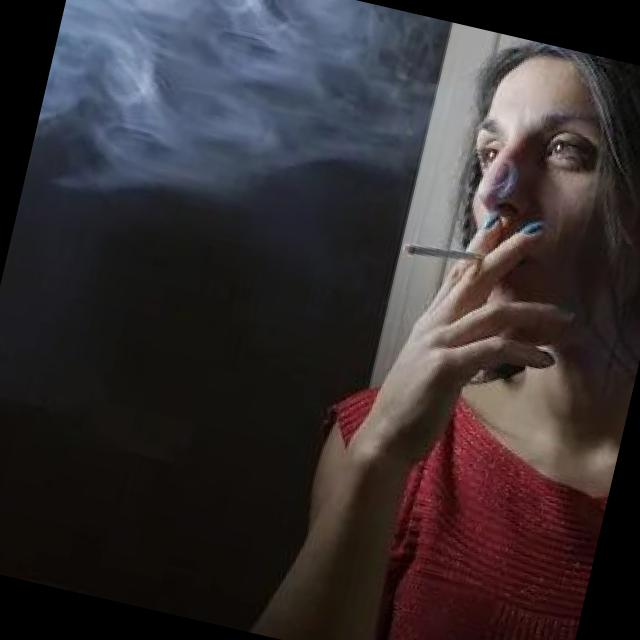cigarette: (400, 235, 493, 279)
